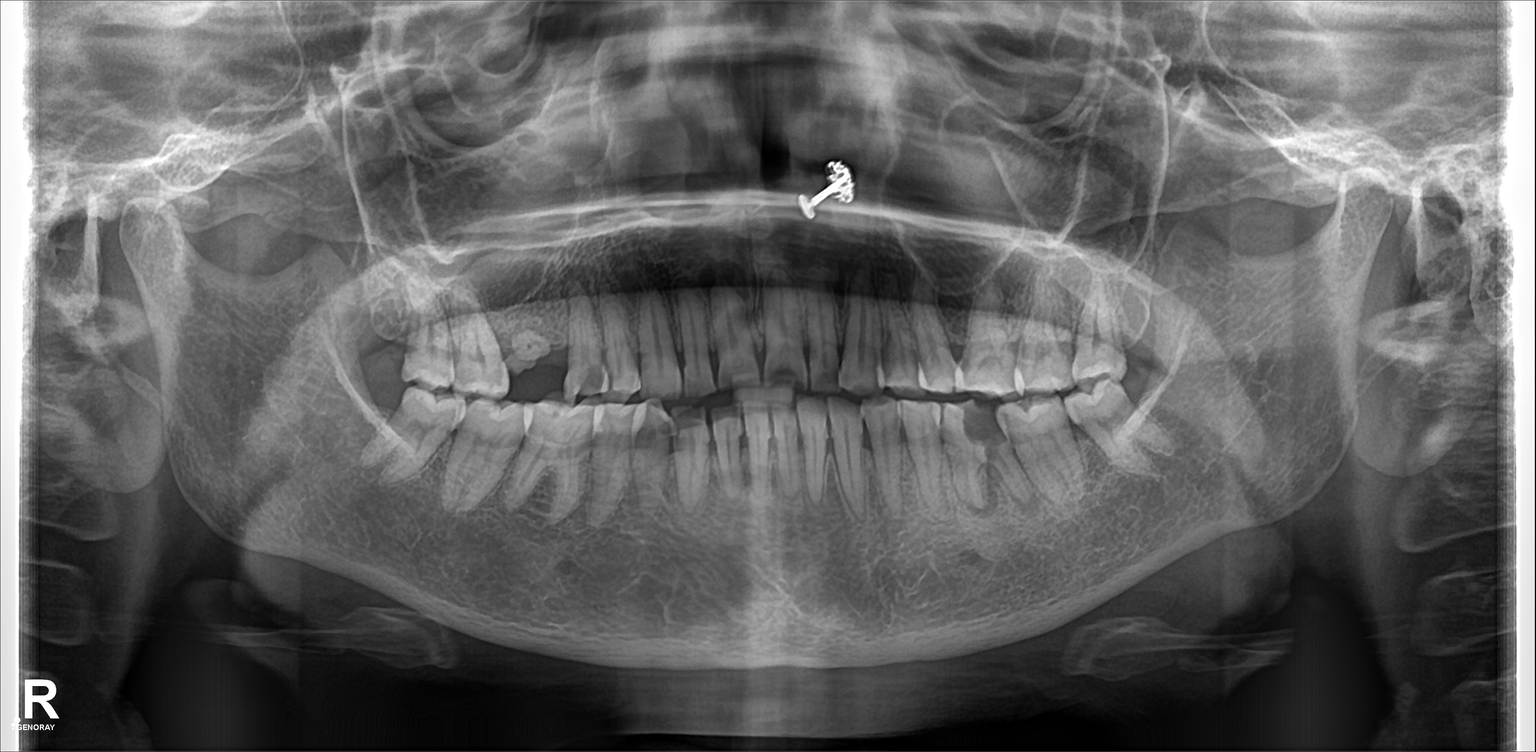Dental Caries: (959, 404, 1009, 447), (579, 360, 612, 392)
Missing Tooth: (354, 383, 398, 450), (365, 309, 408, 375)
Retained Root: (514, 315, 563, 390)
